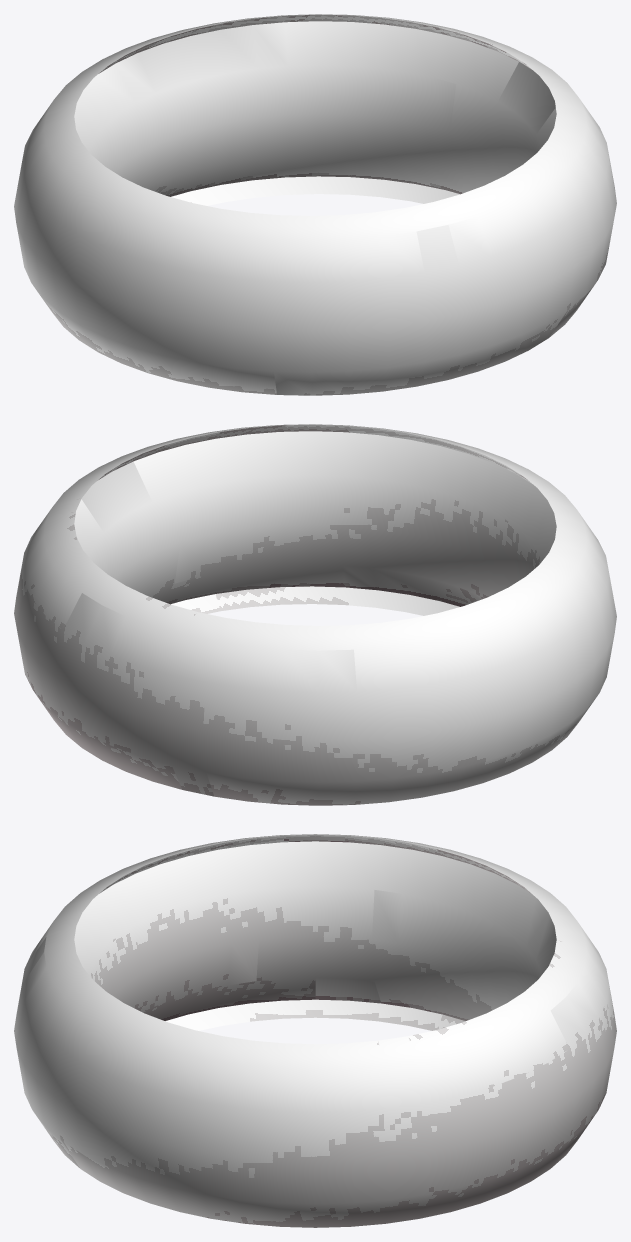
File: wear_sweatband.glb
3 renders of one model, top to bottom at view 1: azimuth 30°, elevation 25°; view 2: azimuth 150°, elevation 25°; view 3: azimuth 270°, elevation 25°, orthographic.
Visible parts, largest first — view 1: mesh; view 2: mesh; view 3: mesh.
Boxes of the visible parts, left/top/right/bottom form: mesh: left=14, top=14, right=616, bottom=395; mesh: left=14, top=424, right=616, bottom=805; mesh: left=14, top=834, right=616, bottom=1227.
Size of the model in its own units: 0.1841 by 0.06 by 0.1793.
1 material, 1 textured.
